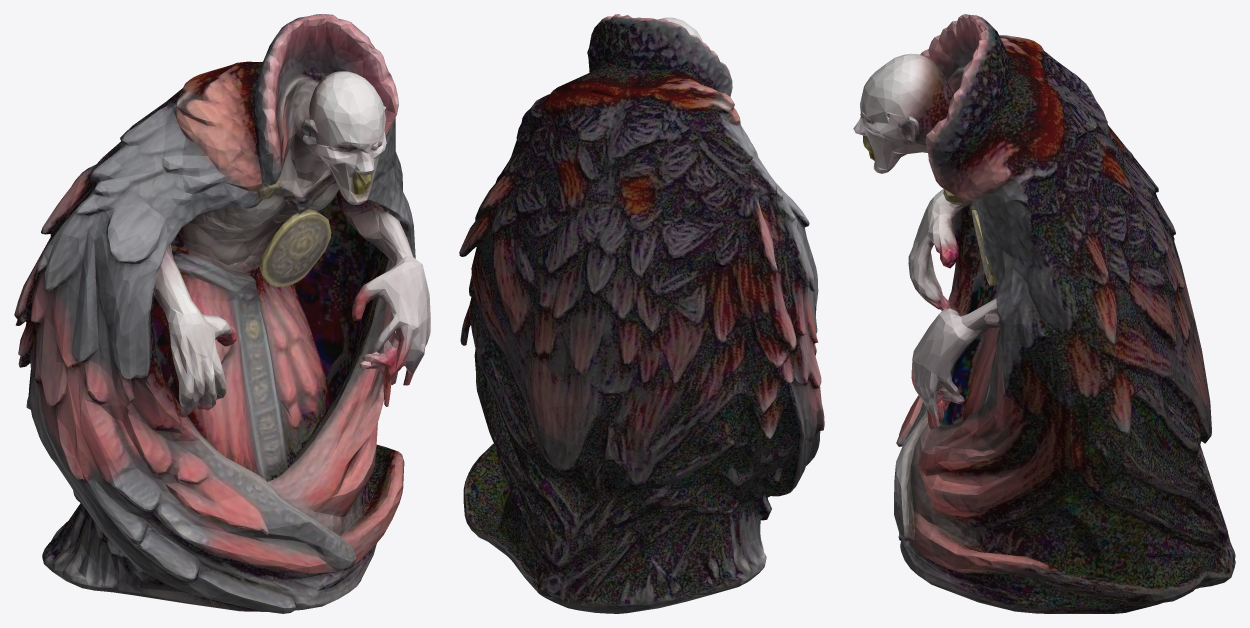
Rendered from nightDrinker.glb.
The picture shows the model from 3 angles, left to right: view 1: azimuth 30°, elevation 25°; view 2: azimuth 150°, elevation 25°; view 3: azimuth 270°, elevation 25°; orthographic projection. The views are drawn at different scales.
Visible parts, largest first — view 1: world; view 2: world; view 3: world.
Part boxes in pixels (x1,y1,x2,y2): world: (14, 14, 430, 613); world: (459, 14, 824, 613); world: (853, 14, 1235, 613).
Size of the model in its own units: 0.6799 by 0.9984 by 0.6096.
Materials: 1 (1 with a texture image).
